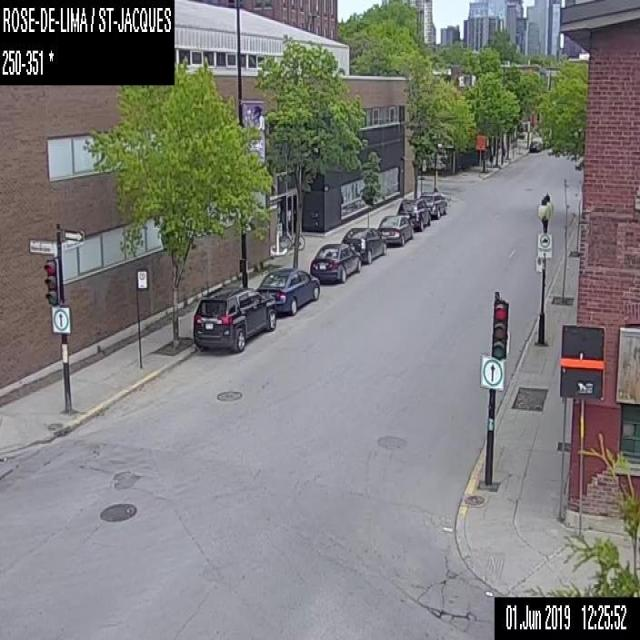vehicle: (191, 287, 271, 352), (258, 267, 320, 313), (310, 241, 361, 282), (342, 225, 387, 261), (377, 212, 415, 245), (398, 197, 431, 230), (420, 191, 448, 217), (528, 137, 542, 152)
